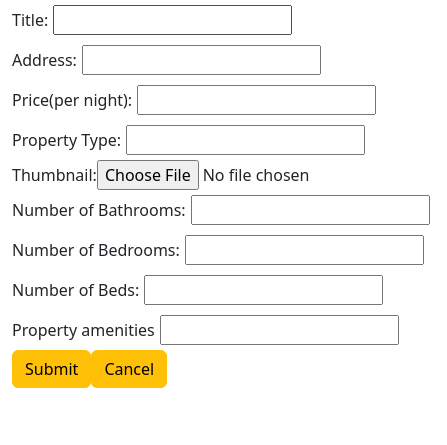
CreateListing › validates form fields
This screenshot has width=447, height=445.
Click the button "Submit" at (52, 369), box x1=12 y1=350 x2=91 y2=388
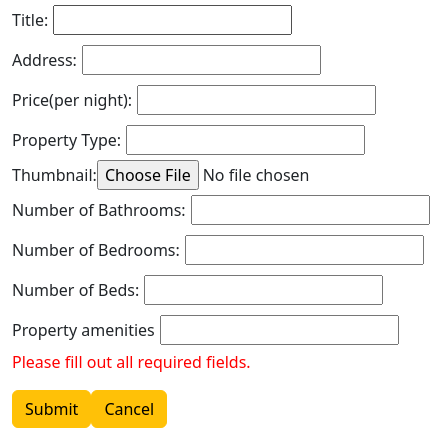
Expected: the text "Please fill out all required fields." is shown, x1=12 y1=351 x2=251 y2=373
